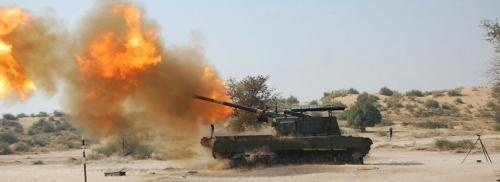fire: (73, 2, 162, 84), (0, 6, 36, 104), (195, 72, 236, 125)
